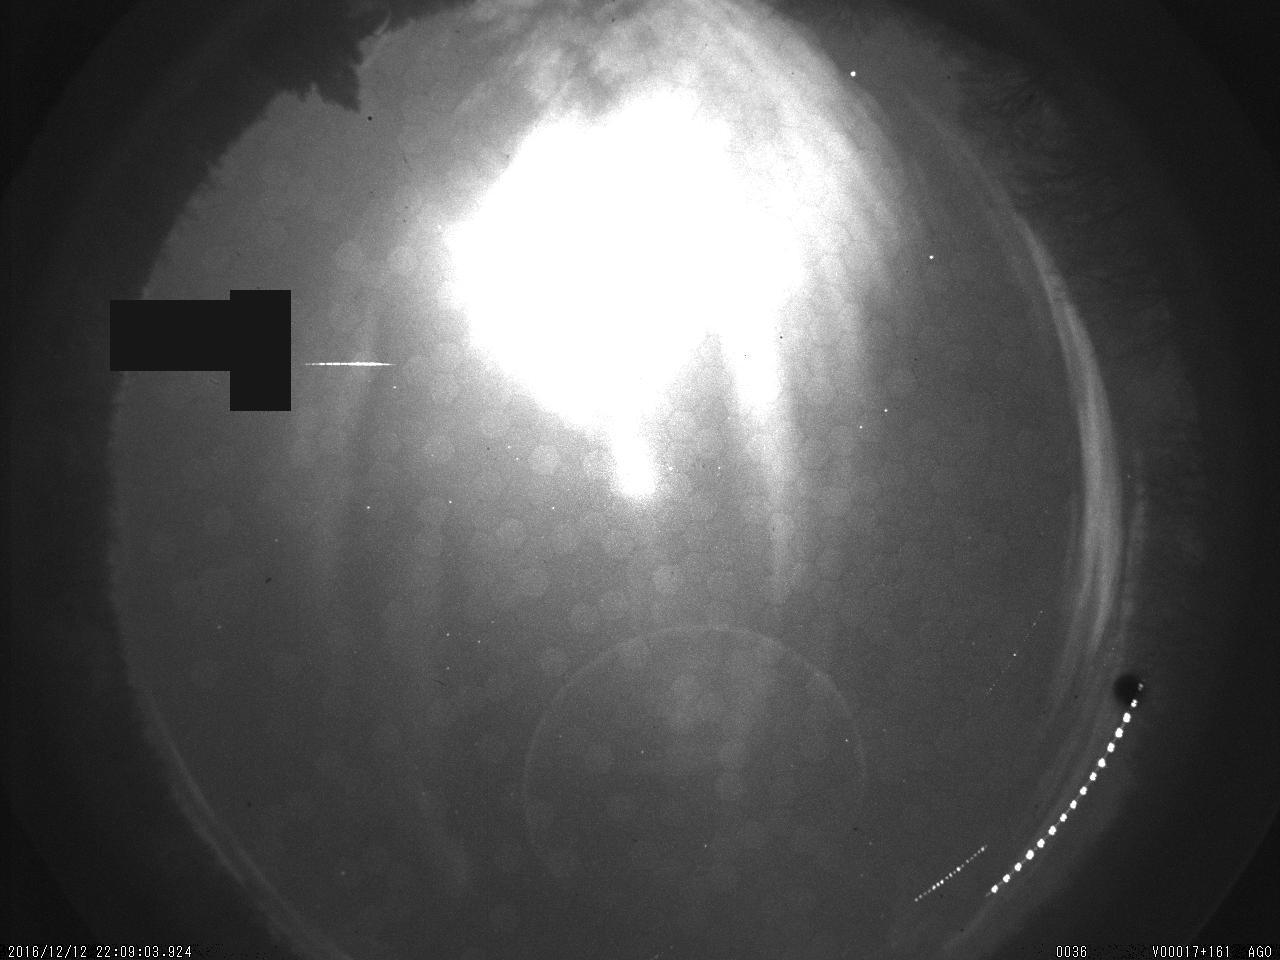meteor: (298, 351, 399, 382)
